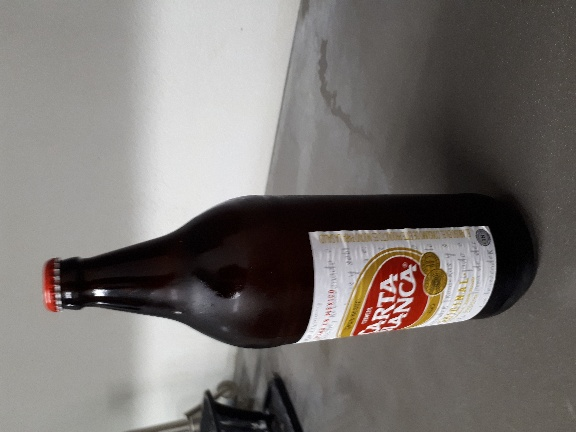CBB: (22, 137, 391, 256)
